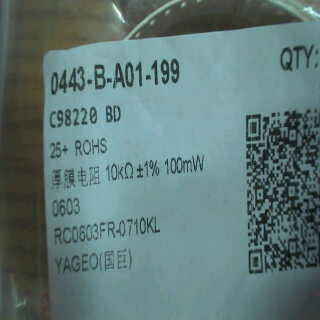10kR: (101, 155, 135, 189)
